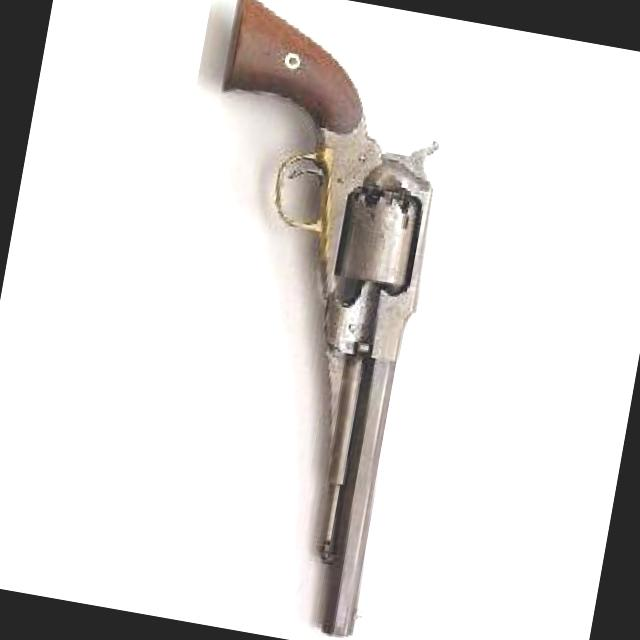handgun: (132, 0, 474, 638)
